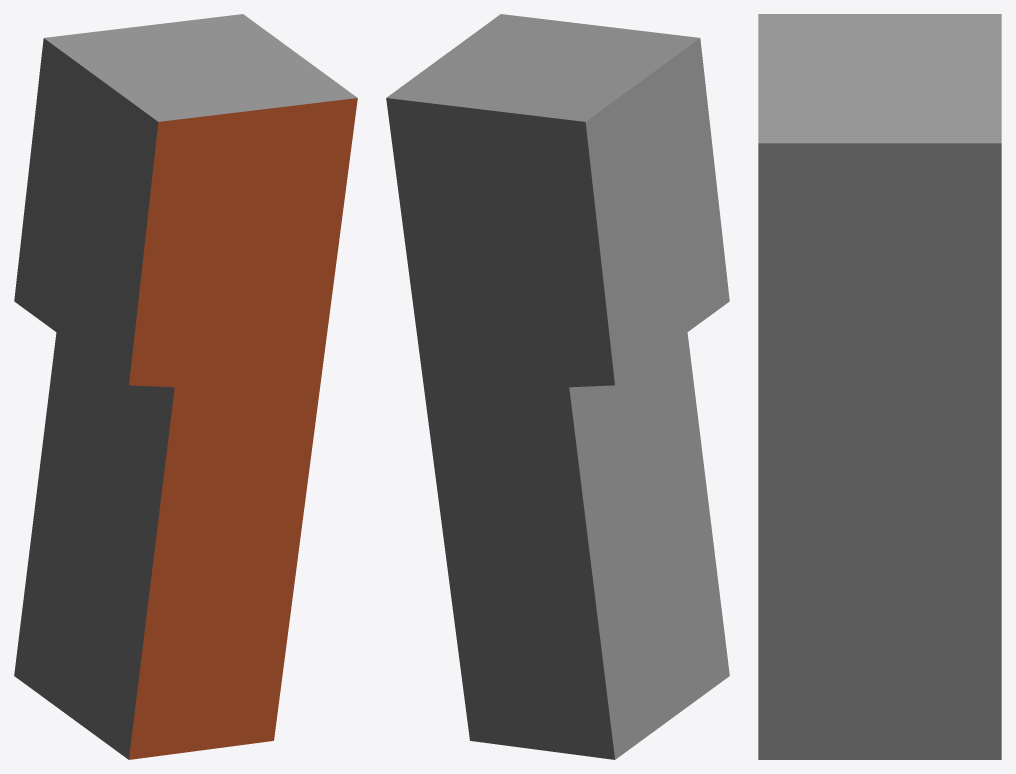
The model's file is construction_6331_assumed_A_Casa_h6m.obj.
3 renders of one model, left to right at view 1: azimuth 30°, elevation 25°; view 2: azimuth 150°, elevation 25°; view 3: azimuth 270°, elevation 25°, orthographic. The views are drawn at different scales.
Parts seen in each view (by area): view 1: construction_6331_assumed_A_Casa; view 2: construction_6331_assumed_A_Casa; view 3: construction_6331_assumed_A_Casa.
Boxes of the visible parts, x1=… form: construction_6331_assumed_A_Casa: x1=14, y1=14, x2=357, y2=759; construction_6331_assumed_A_Casa: x1=386, y1=14, x2=729, y2=759; construction_6331_assumed_A_Casa: x1=758, y1=14, x2=1001, y2=759.
Bounding box in the file's own units: 6.91 × 18.67 × 6.
